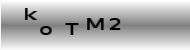2: (108, 17, 120, 30)
M: (85, 17, 104, 30)
T: (64, 22, 79, 35)
k: (23, 7, 37, 20)
o: (39, 25, 52, 35)
